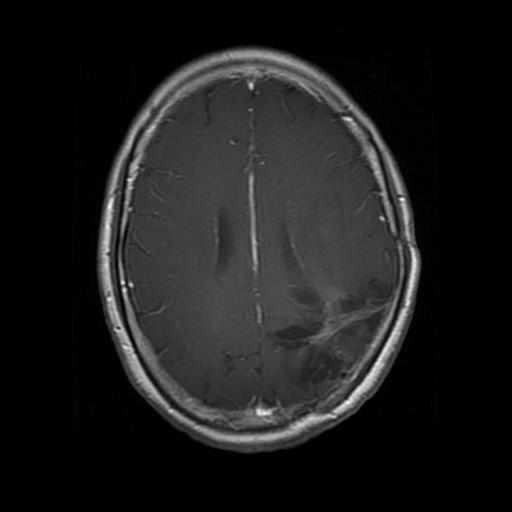Tumour-Glioma: (287, 287, 396, 372)
